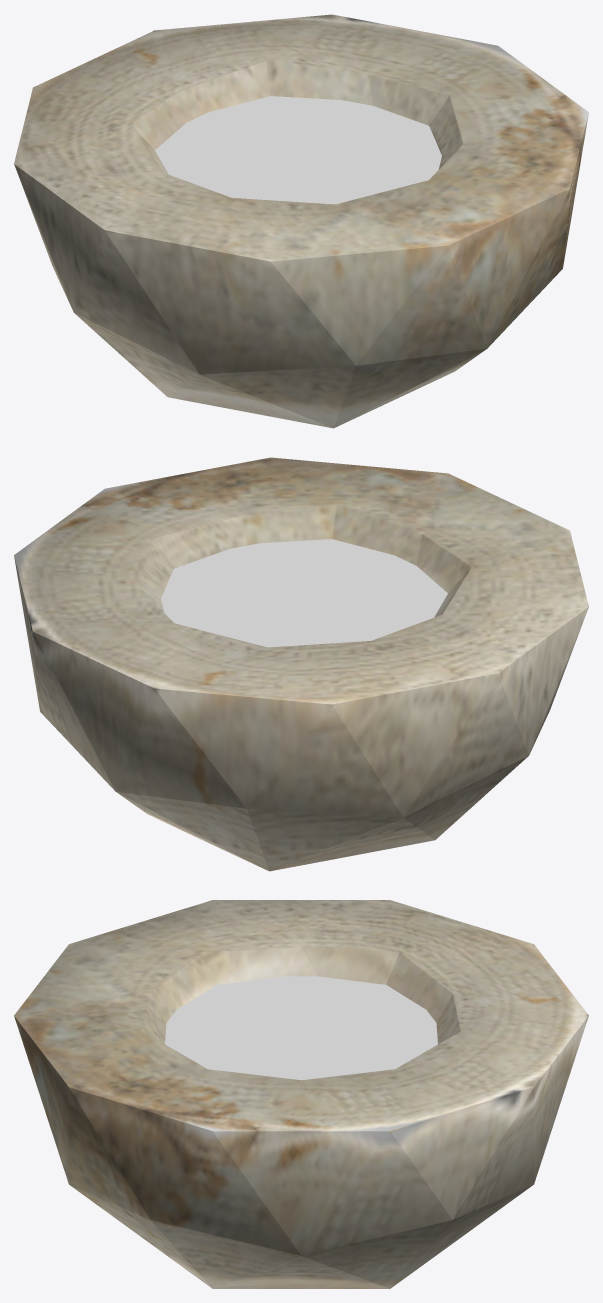
File: bowl.glb
3 views of the same model, one above another, from view 1: azimuth 30°, elevation 25°; view 2: azimuth 150°, elevation 25°; view 3: azimuth 270°, elevation 25° (orthographic). The views are drawn at different scales.
Visible parts, largest first — view 1: Icosphere, liquid; view 2: Icosphere, liquid; view 3: Icosphere, liquid.
Part boxes in pixels (x1=…): Icosphere: x1=14, y1=14, x2=588, y2=428; liquid: x1=155, y1=96, x2=441, y2=204; Icosphere: x1=14, y1=457, x2=588, y2=871; liquid: x1=161, y1=539, x2=447, y2=647; Icosphere: x1=14, y1=900, x2=588, y2=1288; liquid: x1=165, y1=976, x2=437, y2=1080.
Size of the model in its own units: 1.9 by 0.8741 by 2.
1 material, 1 textured.
